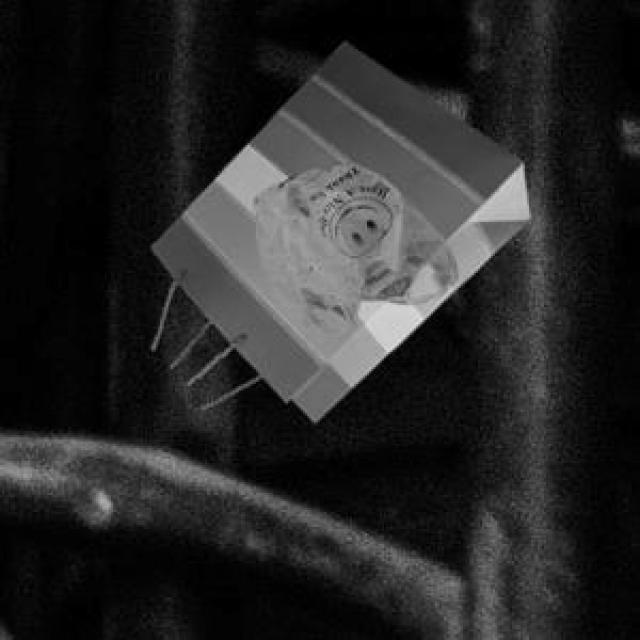paper: (149, 38, 525, 418)
